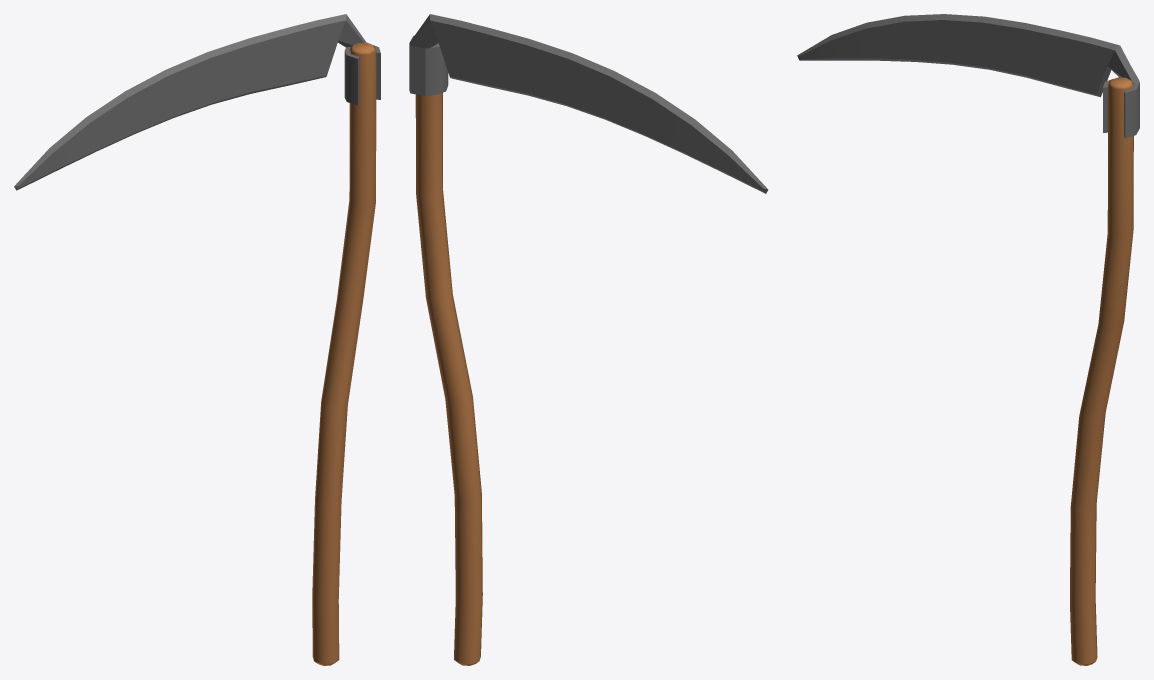
File: Scythe.fbx
The picture shows the model from 3 angles, left to right: view 1: azimuth 30°, elevation 25°; view 2: azimuth 150°, elevation 25°; view 3: azimuth 330°, elevation 25°; orthographic projection. The views are drawn at different scales.
Parts seen in each view (by area): view 1: Scythe; view 2: Scythe; view 3: Scythe.
Boxes of the visible parts, x1=… form: Scythe: x1=14, y1=14, x2=380, y2=665; Scythe: x1=409, y1=14, x2=768, y2=665; Scythe: x1=797, y1=14, x2=1139, y2=665.
Size of the model in its own units: 32.79 by 55.84 by 3.08.
